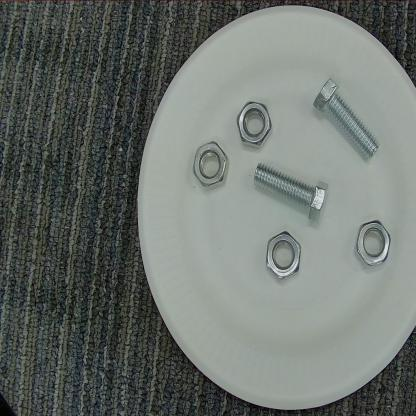FOD: (312, 75, 385, 166), (250, 155, 332, 228), (251, 156, 332, 229), (192, 136, 234, 200), (263, 226, 305, 289), (235, 96, 277, 152), (354, 216, 394, 272)
